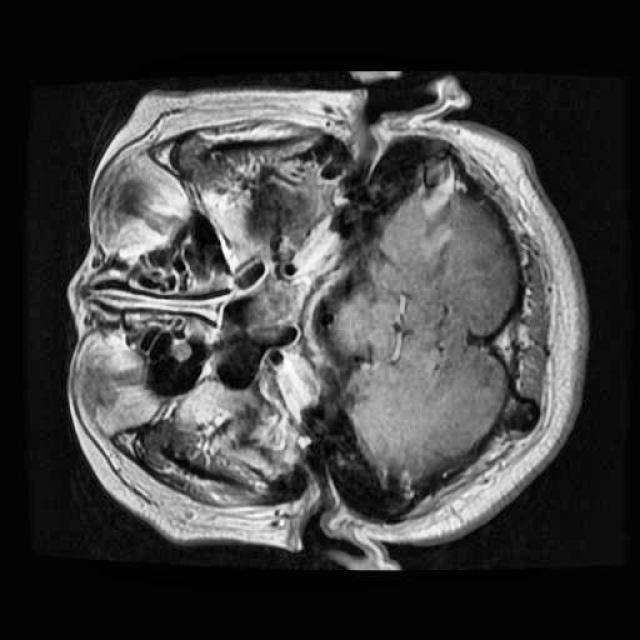Tumor: (231, 264, 315, 351)
